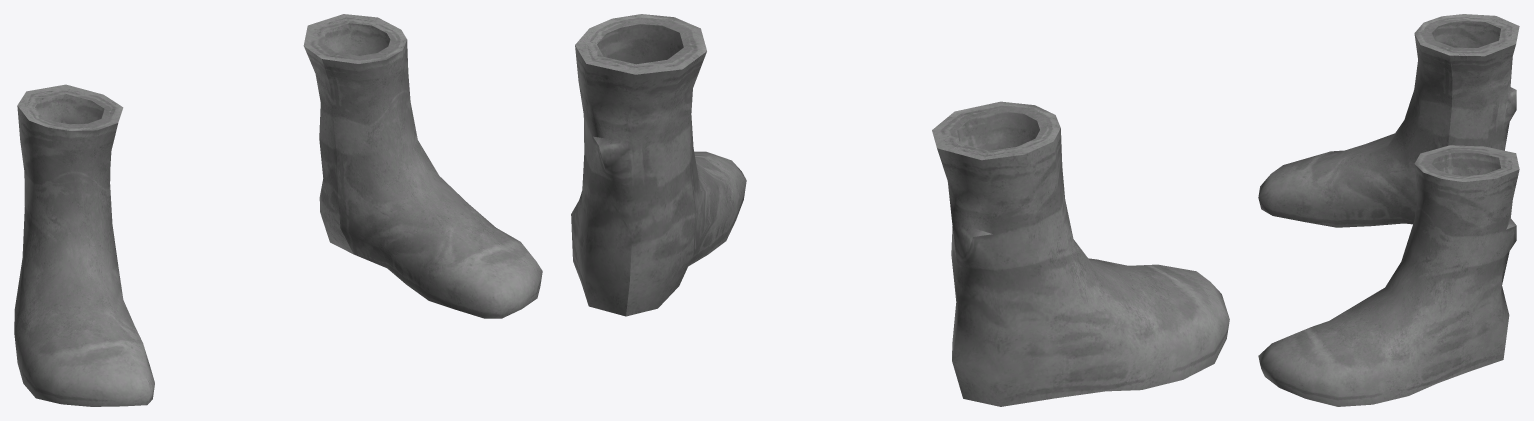
File: Boots_02.fbx
The picture shows the model from 3 angles, left to right: view 1: azimuth 30°, elevation 25°; view 2: azimuth 150°, elevation 25°; view 3: azimuth 270°, elevation 25°; orthographic projection. The views are drawn at different scales.
Parts seen in each view (by area): view 1: F_Human_02_Boots; view 2: F_Human_02_Boots; view 3: F_Human_02_Boots.
Part boxes in pixels (x1,y1,x2,y2): F_Human_02_Boots: (14,14,542,406); F_Human_02_Boots: (571,14,1229,406); F_Human_02_Boots: (1258,14,1519,406).
Size of the model in its own units: 67.75 by 28.31 by 33.4.
1 material, 1 textured.
